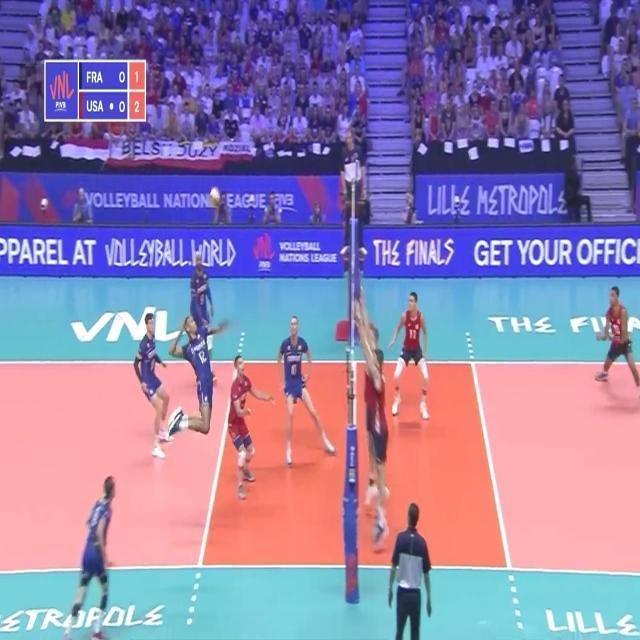volleyball: (208, 190, 219, 207)
